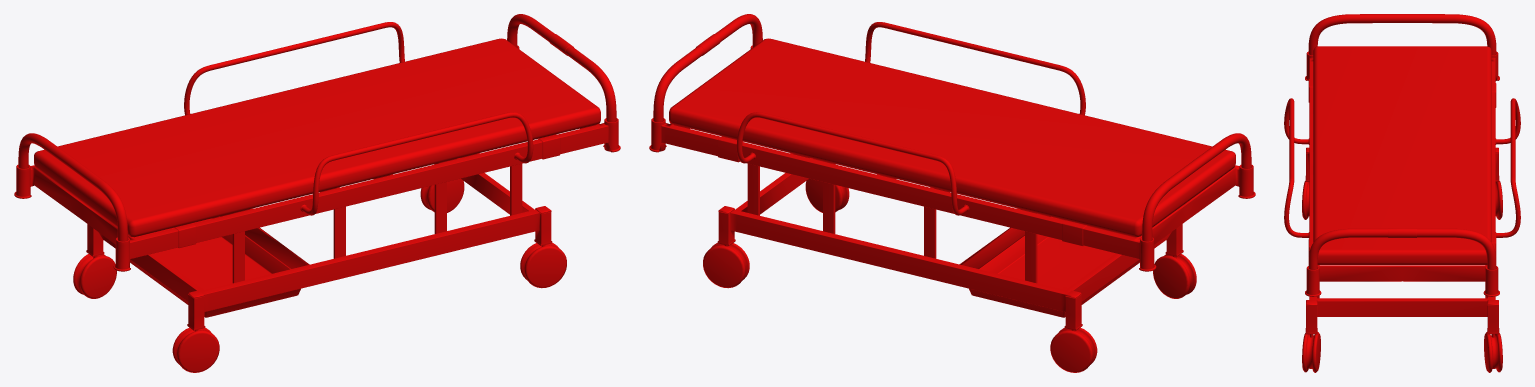
Rendered from Medical_bed_2.fbx.
3 renders of one model, left to right at view 1: azimuth 30°, elevation 25°; view 2: azimuth 150°, elevation 25°; view 3: azimuth 270°, elevation 25°, orthographic. The views are drawn at different scales.
Parts seen in each view (by area): view 1: L29:polySurface1584; view 2: L29:polySurface1584; view 3: L29:polySurface1584.
Part boxes in pixels (x1,y1,x2,y2): L29:polySurface1584: [14, 14, 620, 372]; L29:polySurface1584: [649, 14, 1255, 372]; L29:polySurface1584: [1284, 14, 1520, 372].
Bounding box in the file's own units: 264 × 96.12 × 119.
